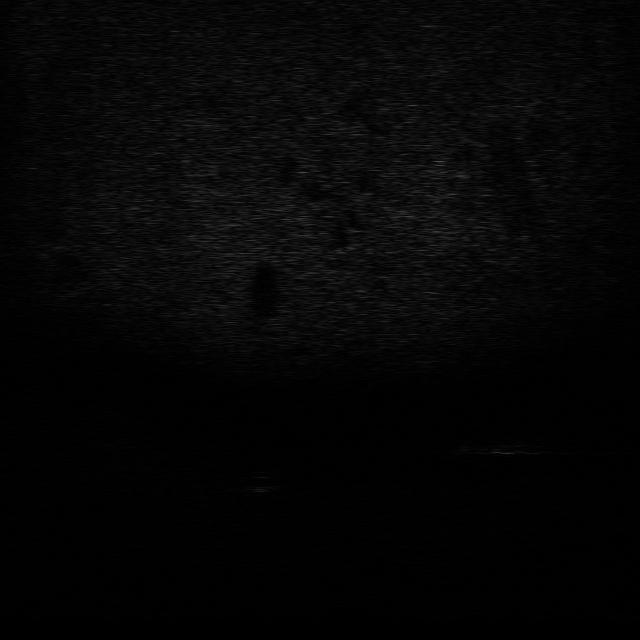ball: (240, 469, 284, 495)
human body: (441, 434, 554, 460)
